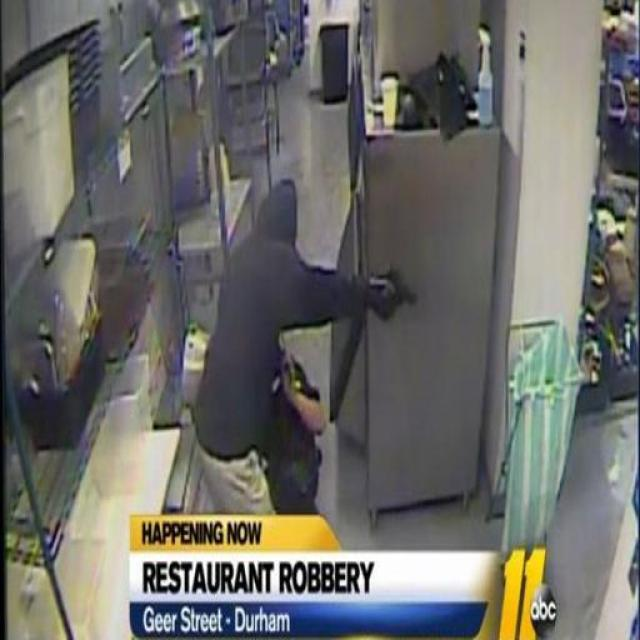pistol: (374, 255, 418, 341)
